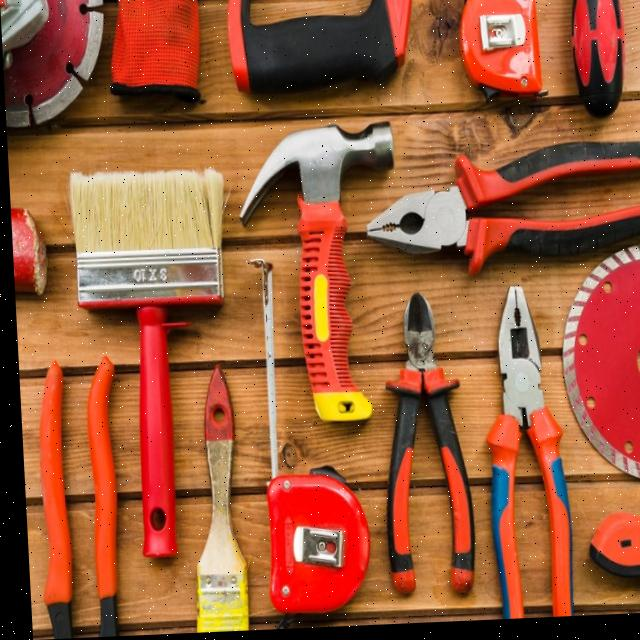Screwdriver: (571, 0, 624, 123)
